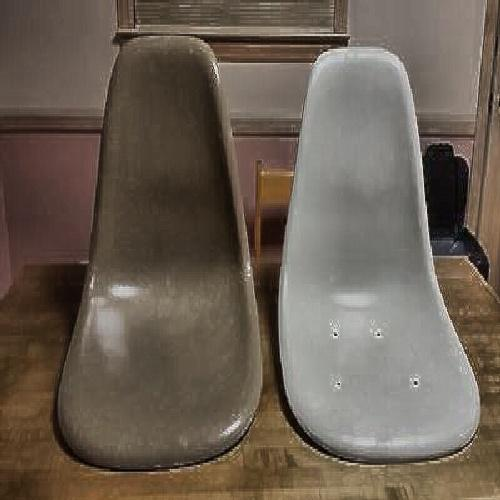chair: (282, 46, 491, 463), (79, 42, 263, 472)
